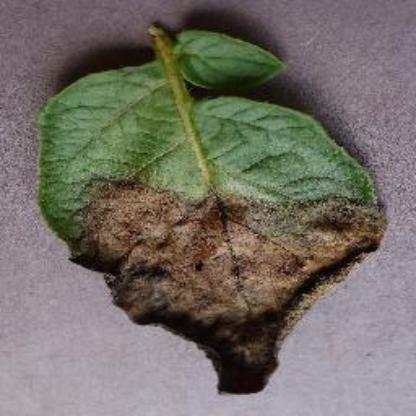Late-Blight: (26, 19, 390, 400)
